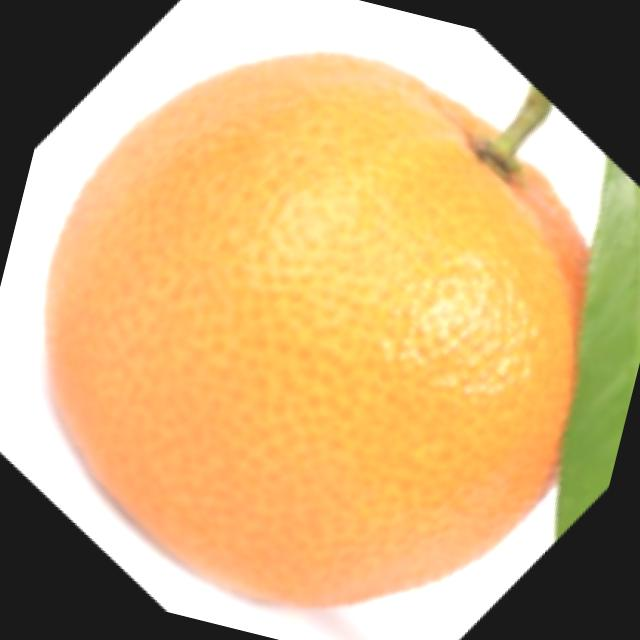orange: (0, 4, 640, 640)
